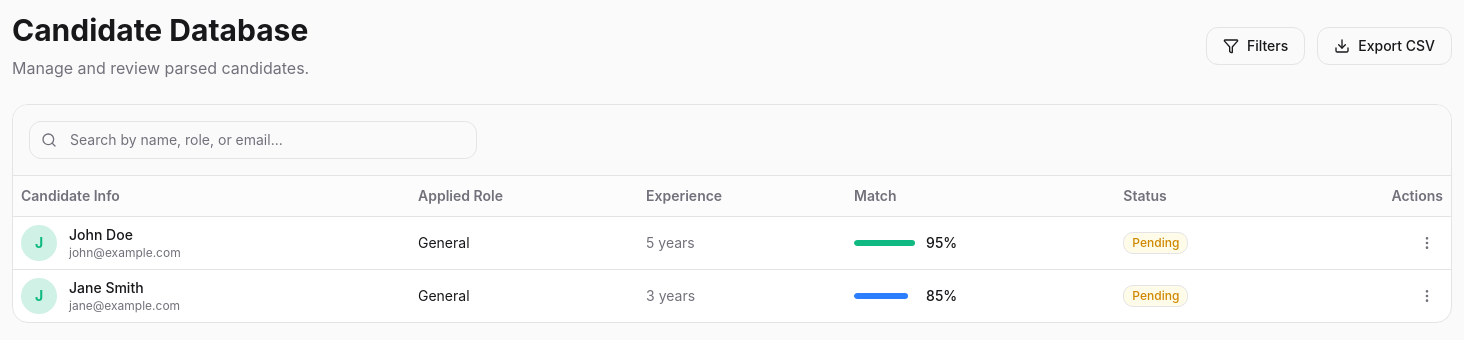
Test: Candidates Page › handles search input
In the field with placeholder "Search by name, role, or email...": (253, 140) 29,121 -> 477,159, type "empty"
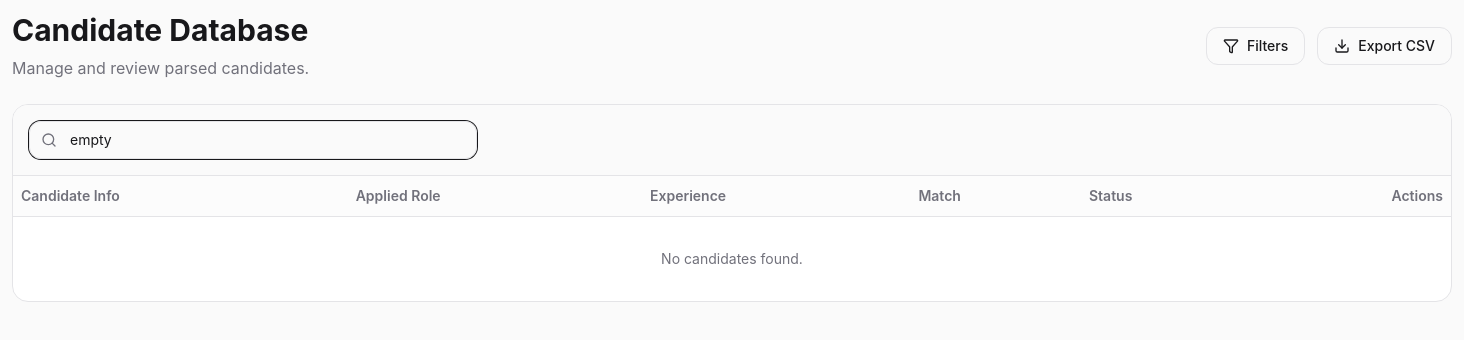
Check: the text "No candidates found." is shown, box 13,216 -> 1451,300
